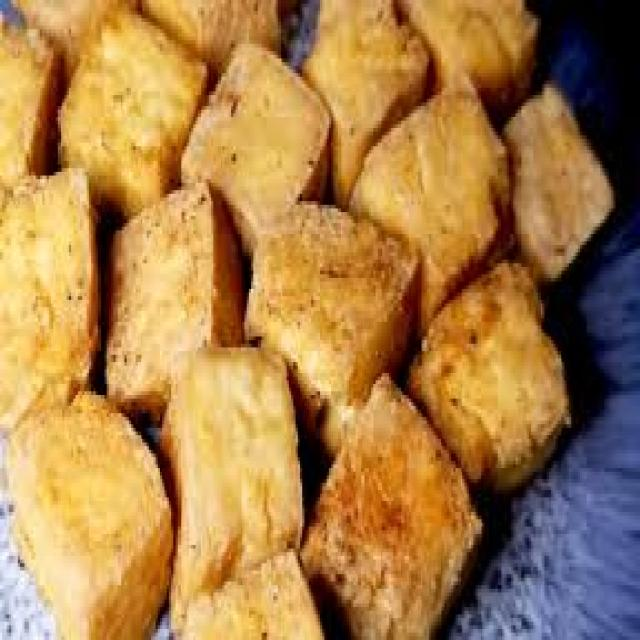tahu: (314, 373, 469, 625), (252, 182, 397, 415), (59, 7, 220, 211), (20, 390, 166, 614), (159, 332, 296, 568), (361, 78, 511, 270), (184, 50, 344, 228), (115, 182, 242, 388), (2, 175, 103, 385), (510, 72, 611, 273), (324, 5, 425, 138)
